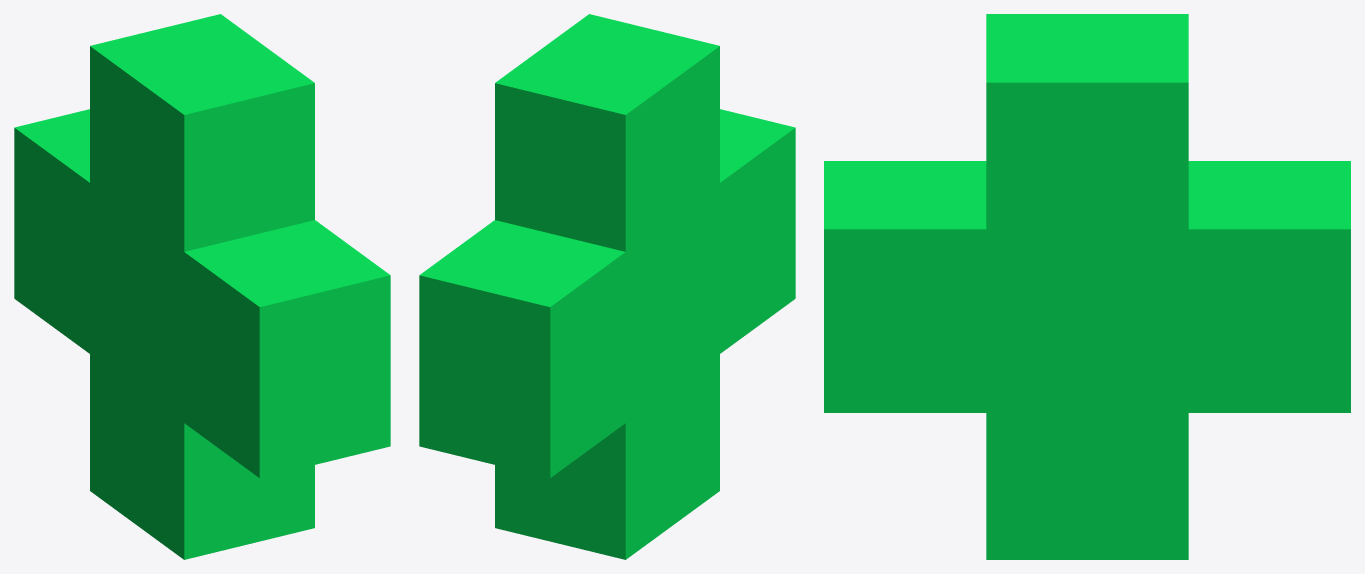
The model's file is health2.fbx.
3 renders of one model, left to right at view 1: azimuth 30°, elevation 25°; view 2: azimuth 150°, elevation 25°; view 3: azimuth 270°, elevation 25°, orthographic. The views are drawn at different scales.
Visible parts, largest first — view 1: pCube1; view 2: pCube1; view 3: pCube1.
Boxes of the visible parts, x1,y1,x2,y2 form: pCube1: (14, 14, 390, 559); pCube1: (419, 14, 795, 559); pCube1: (824, 14, 1350, 559).
Bounding box in the file's own units: 0.8004 × 2.6 × 2.6.
